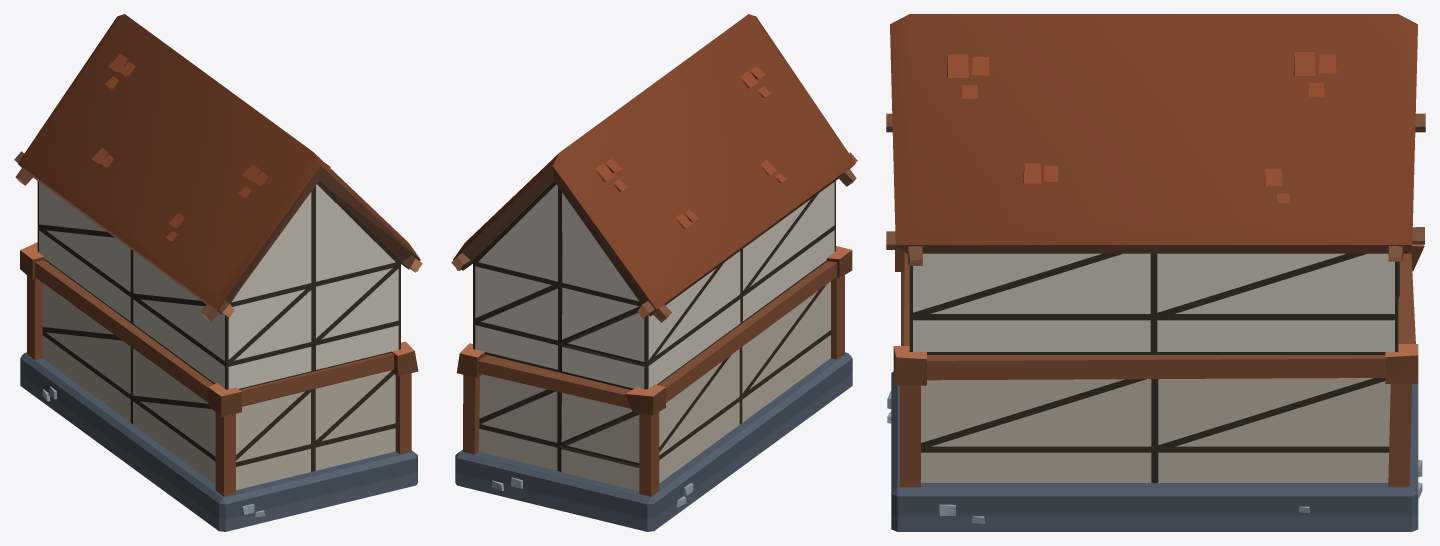
The model's file is house-ver8-middlesize.glb.
3 views of the same model, side by side, from view 1: azimuth 30°, elevation 25°; view 2: azimuth 150°, elevation 25°; view 3: azimuth 270°, elevation 25° (orthographic). The views are drawn at different scales.
Parts seen in each view (by area): view 1: House-ver8-middlesize; view 2: House-ver8-middlesize; view 3: House-ver8-middlesize.
Part boxes in pixels (box(x1,y1,x2,y2)): House-ver8-middlesize: box(14, 14, 422, 531); House-ver8-middlesize: box(451, 14, 857, 531); House-ver8-middlesize: box(886, 14, 1425, 531).
Bounding box in the file's own units: 5.69 × 8.78 × 9.43.
Materials: 1 (1 with a texture image).
